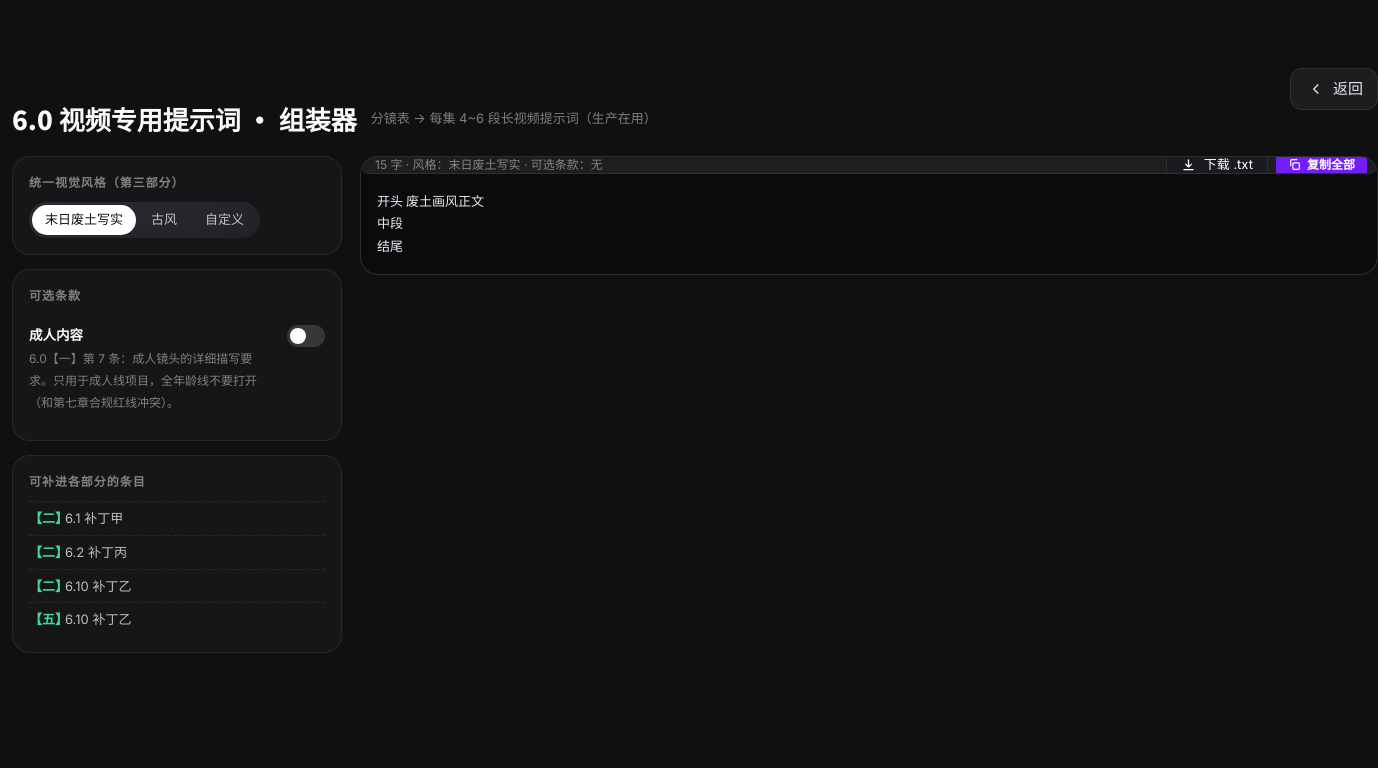
Test: 组装器：可选条款 › 开关：高亮、结果多出条款正文、统计行列出条款、警告出现
Click the button named "成人内容" at coordinates (306, 336), box x1=287 y1=325 x2=325 y2=347
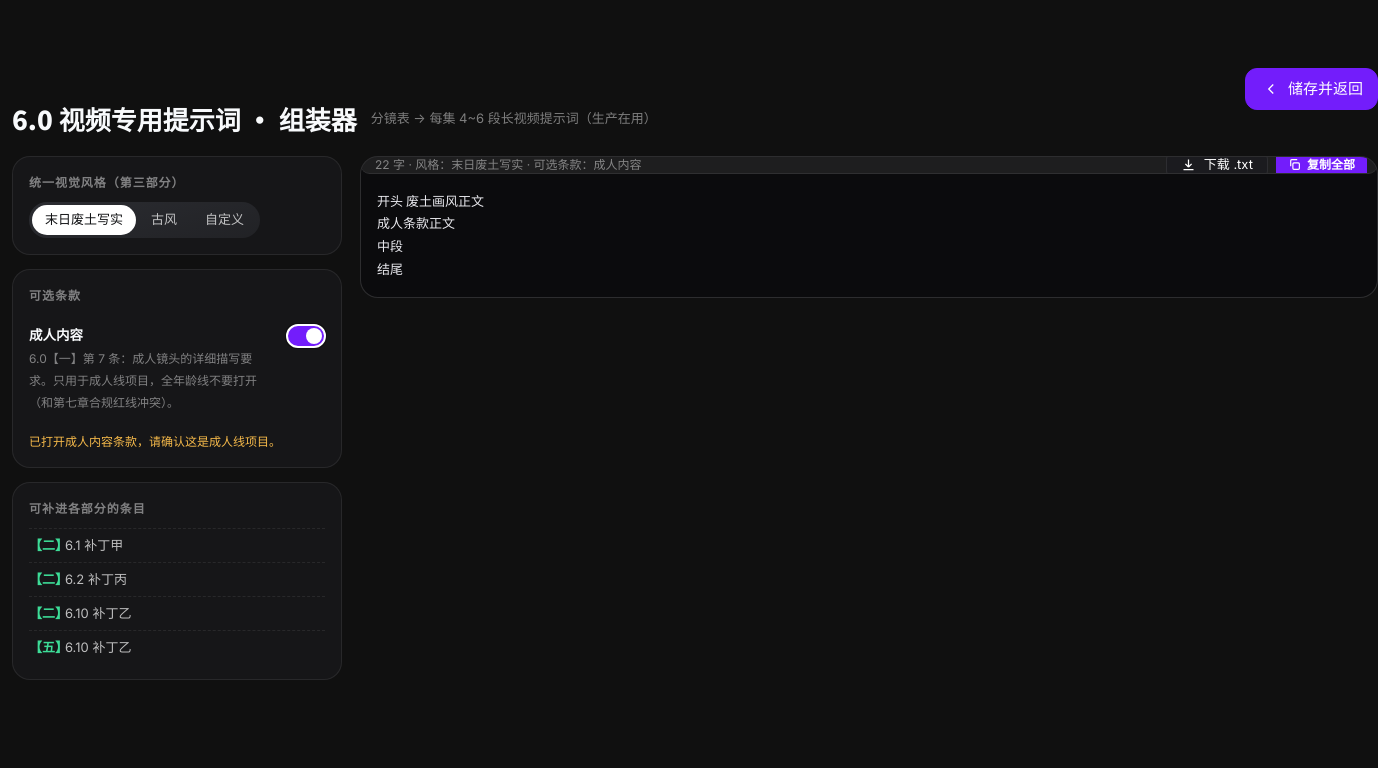
expect the text with id "stat" shows "可选条款：成人内容": met, box x1=375 y1=157 x2=642 y2=174
expect the text "已打开成人内容条款，请确认这是成人线项目。" is shown: met, box x1=29 y1=432 x2=325 y2=451
expect the text with id "optWarn" reads "已打开成人内容条款，请确认这是成人线项目。": met, box x1=29 y1=434 x2=281 y2=449
Click the button named "成人内容" at coordinates (306, 336), box x1=287 y1=325 x2=325 y2=347
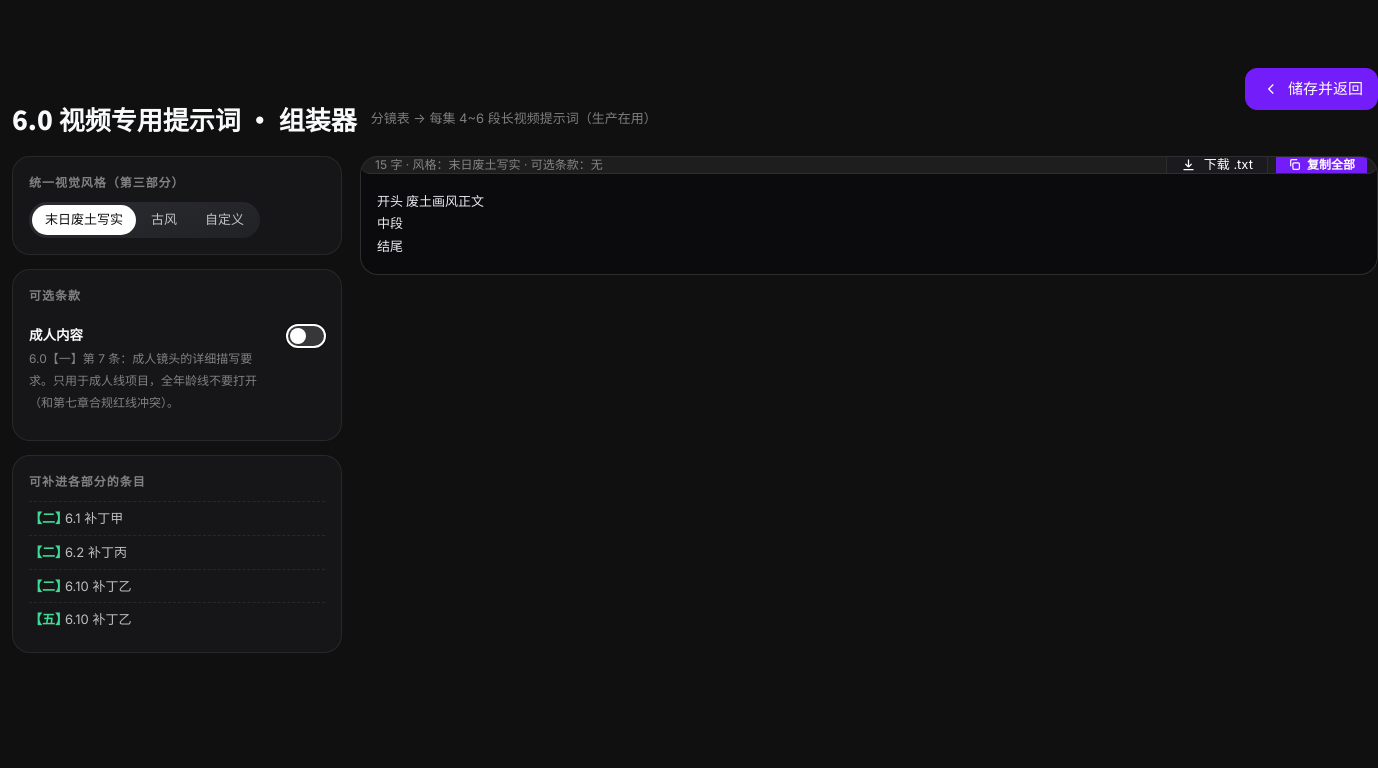
expect the text with id "optWarn" is gone: met
